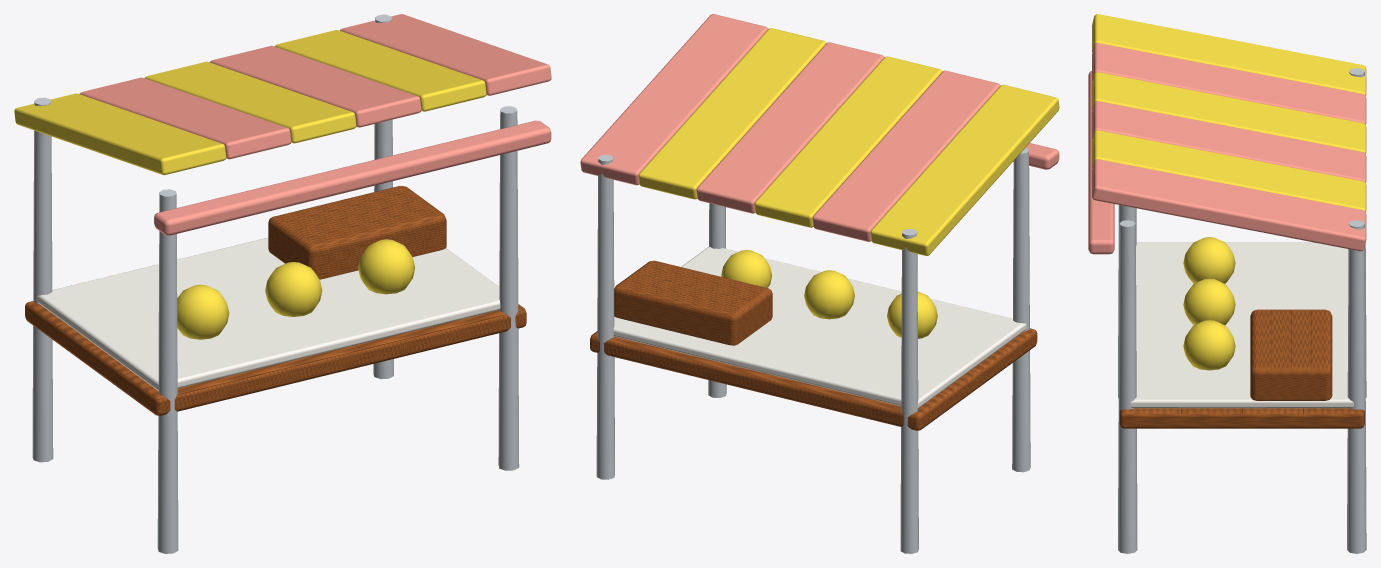
The model's file is hero-shooter-harbour-payload-market-stall-awning-358921d2.glb.
3 renders of one model, left to right at view 1: azimuth 30°, elevation 25°; view 2: azimuth 150°, elevation 25°; view 3: azimuth 270°, elevation 25°, orthographic. The views are drawn at different scales.
Visible parts, largest first — view 1: market-stall-awning; view 2: market-stall-awning; view 3: market-stall-awning.
Part boxes in pixels (x1,y1,x2,y2): market-stall-awning: (14, 14, 551, 553); market-stall-awning: (580, 14, 1059, 553); market-stall-awning: (1088, 14, 1366, 553).
Size of the model in its own units: 2.52 by 2.52 by 1.7.
5 materials, 1 textured.
